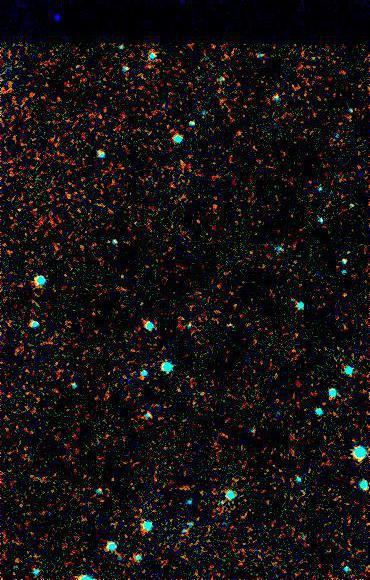star: (326, 283, 356, 313)
